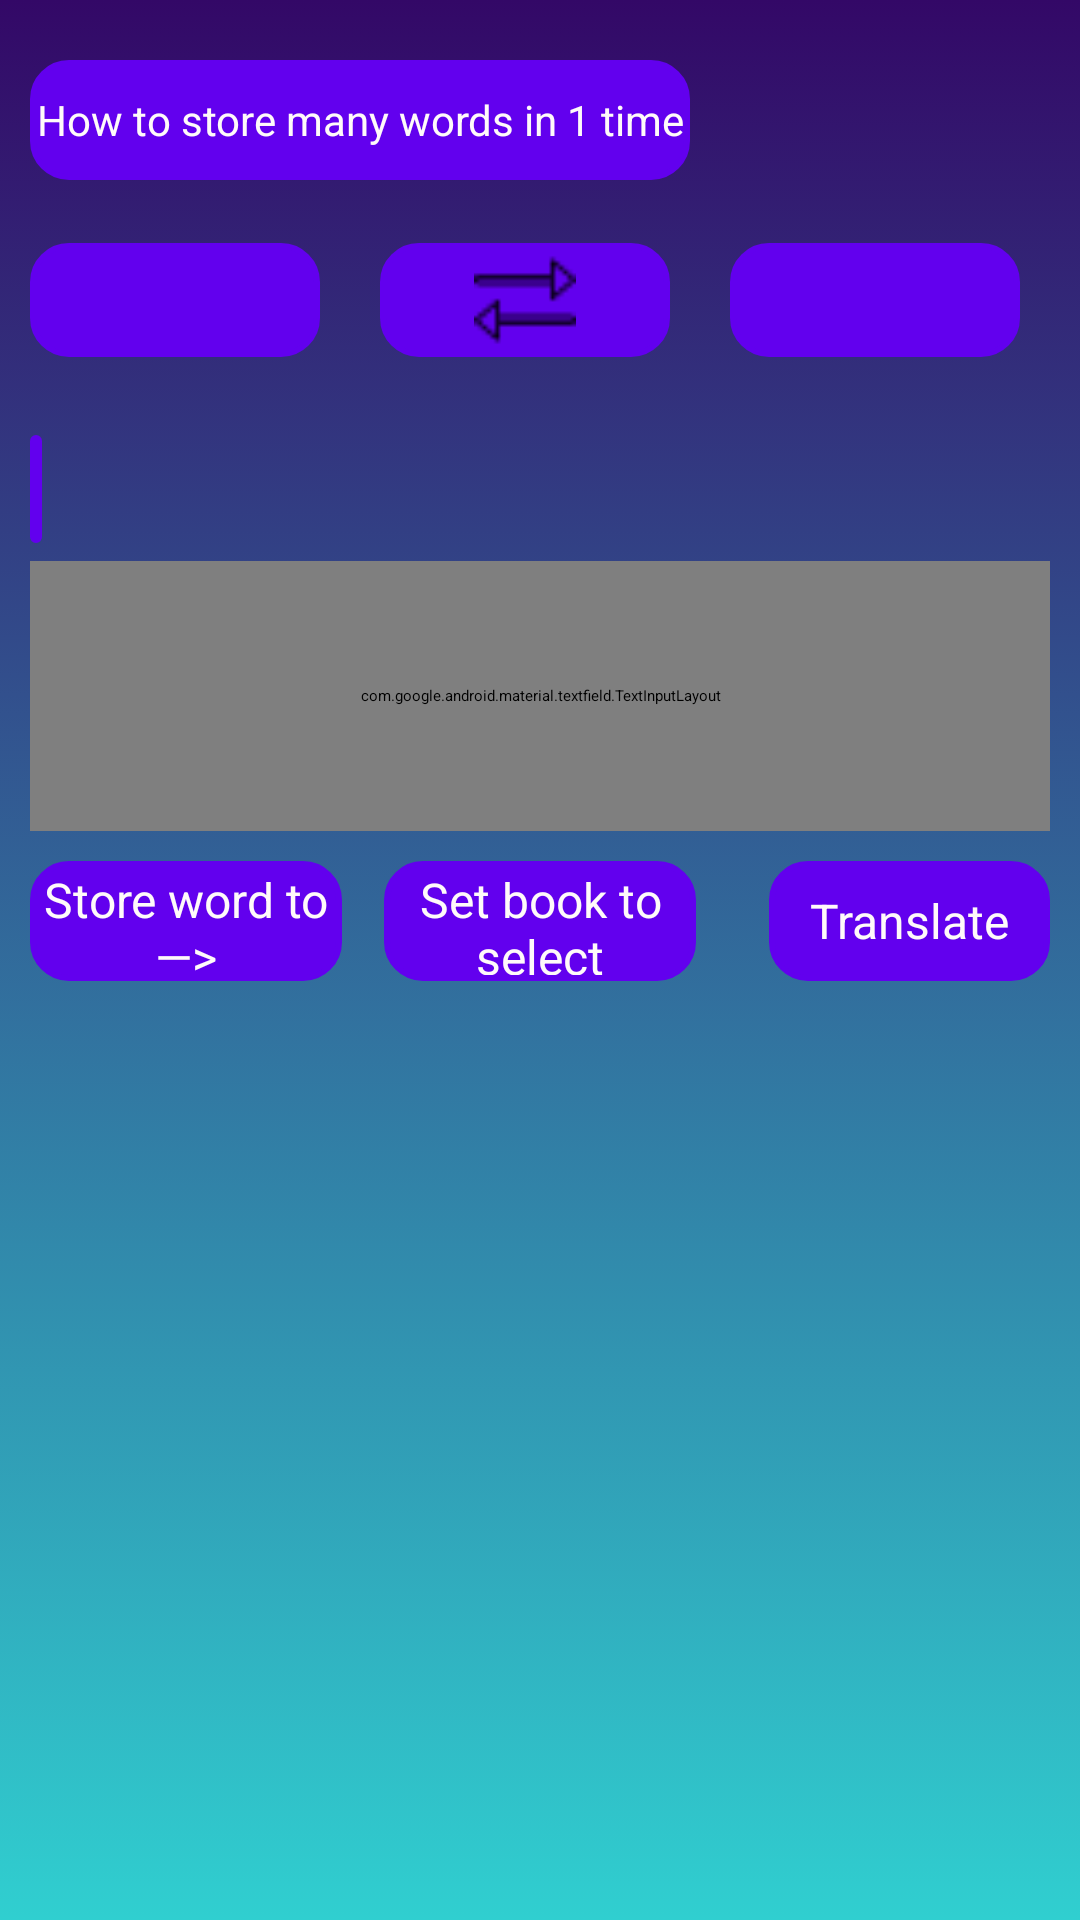

Icon click points for this 1080*1920 phone screenshot, format (x,y):
Swap: (525,300)
